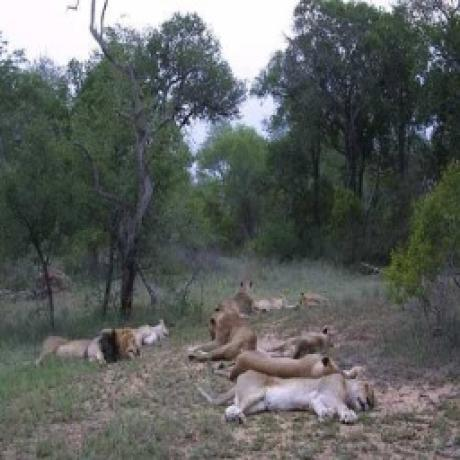Lion: (226, 366, 381, 429), (192, 308, 344, 356), (40, 318, 140, 370), (226, 353, 356, 385), (231, 276, 306, 315), (116, 319, 174, 340)
